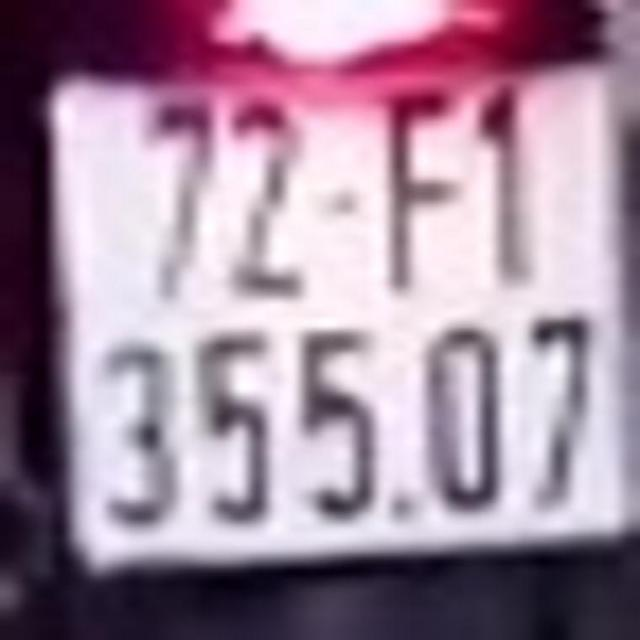0: (408, 320, 508, 512)
1: (473, 76, 538, 294)
2: (226, 97, 312, 306)
3: (92, 336, 183, 535)
5: (292, 320, 382, 523), (190, 323, 277, 527)
7: (130, 100, 217, 298), (525, 306, 595, 508)
F: (375, 80, 468, 296)
